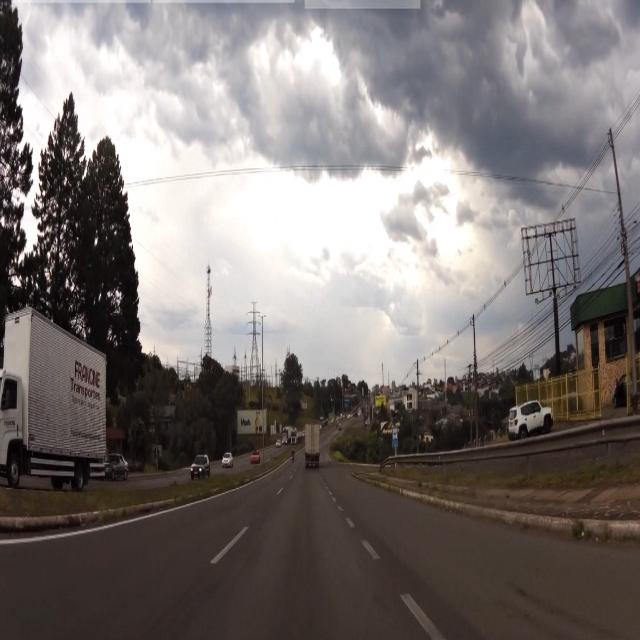S-14: (392, 426, 399, 448)
